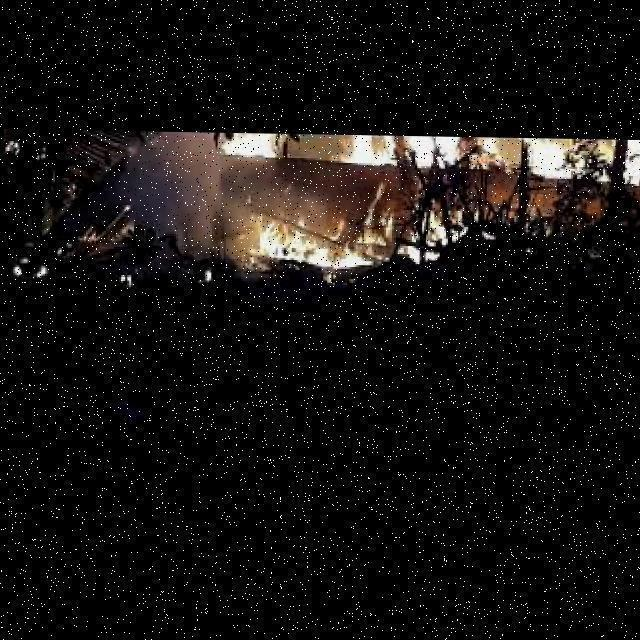Fire: (246, 184, 394, 268), (341, 136, 491, 164), (406, 200, 466, 264), (219, 134, 277, 154)
